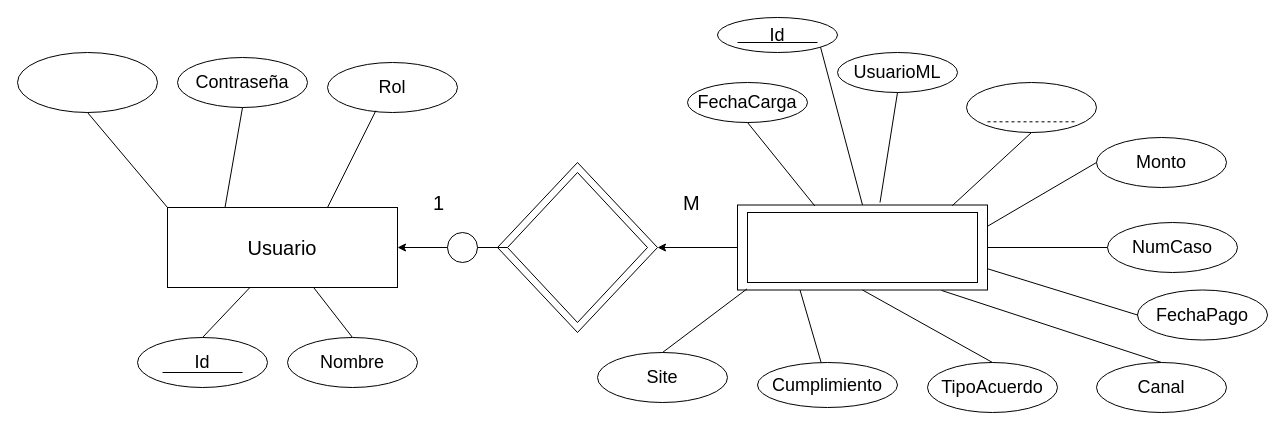
Some shapes in this 1285 by 430 pixel diagram are drawn without their labels. The shapes that lost their labels are listed below. From the top down, each one's box as (x1, y1, x2, y2) in pixels, then its label:
(16, 52, 158, 112): NombreUsuario
(966, 82, 1096, 132): IdOperador
(506, 172, 648, 322): Generado Por
(746, 212, 978, 282): PromesaDePago
